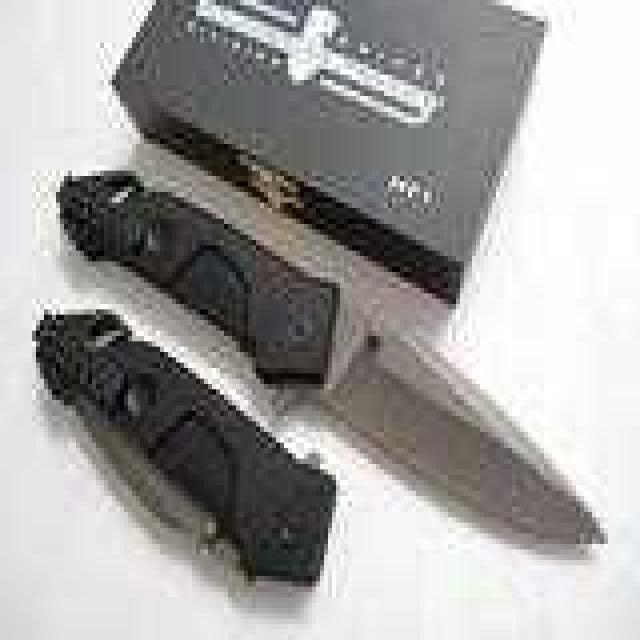Knife: (57, 159, 612, 560)
